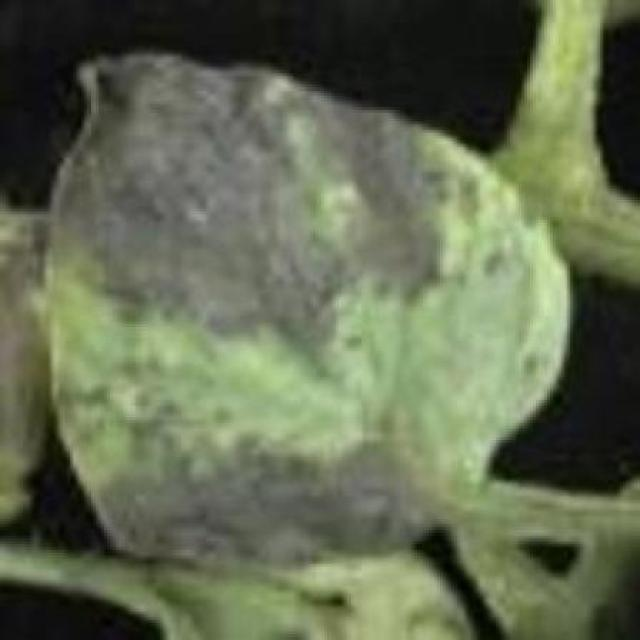Late Blight: (45, 51, 575, 578)
